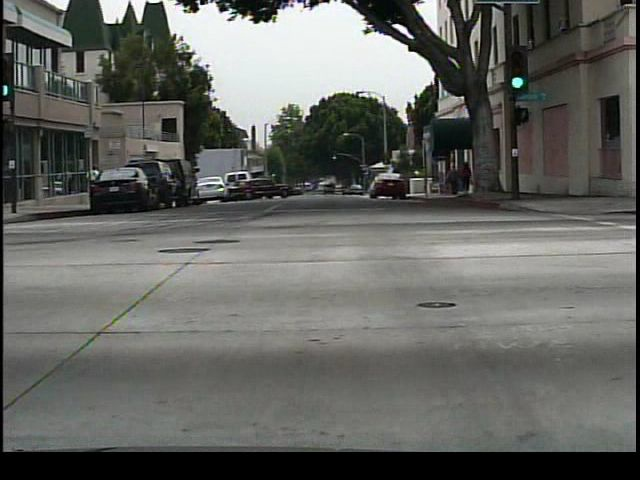person: (84, 158, 110, 205), (443, 165, 462, 199), (470, 156, 471, 196)
